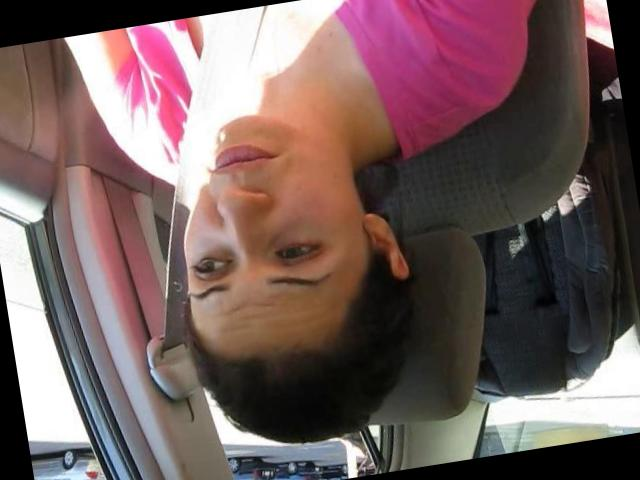eye_open: (268, 234, 328, 272), (188, 244, 236, 282)
face: (156, 100, 357, 334)
